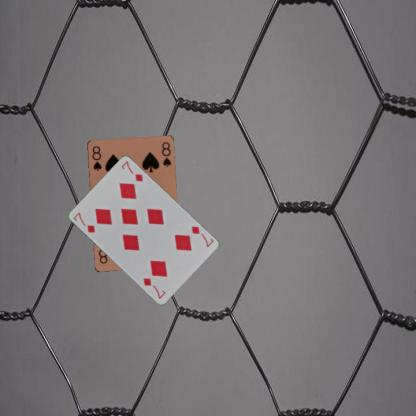7d: (188, 223, 214, 248), (70, 210, 96, 234)
8s: (89, 143, 103, 172)
